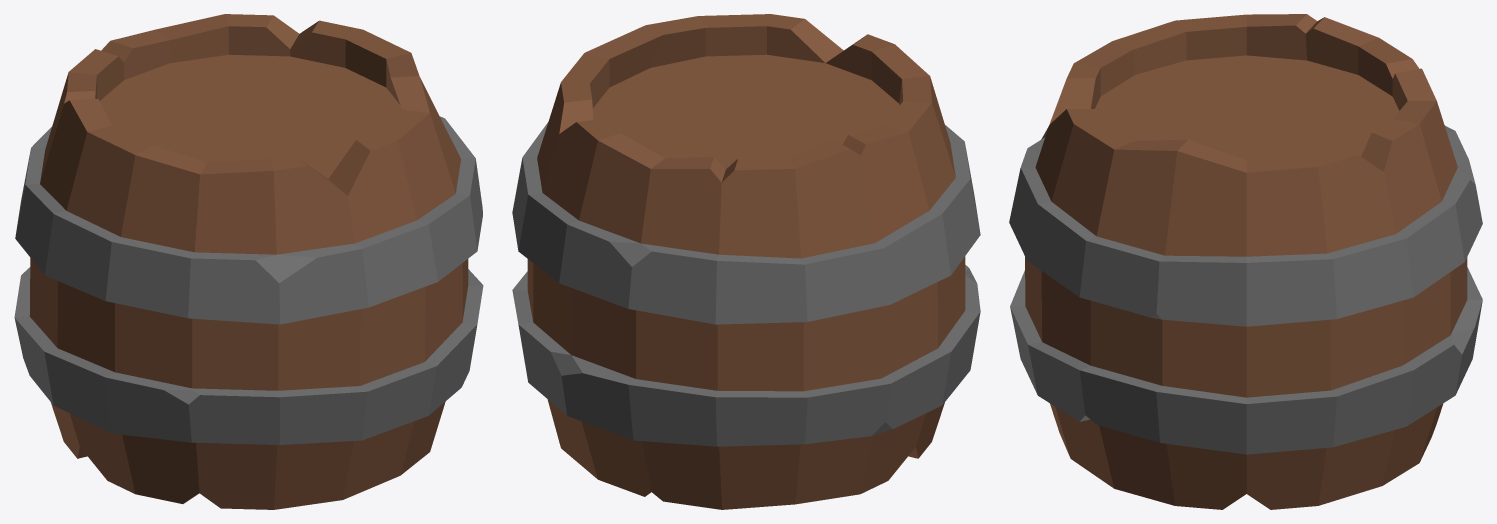
The model's file is rougherBarrel.fbx.
3 views of the same model, side by side, from view 1: azimuth 30°, elevation 25°; view 2: azimuth 150°, elevation 25°; view 3: azimuth 270°, elevation 25° (orthographic).
Parts seen in each view (by area): view 1: Cylinder; view 2: Cylinder; view 3: Cylinder.
Part boxes in pixels (box(x1,y1,x2,y2)): Cylinder: box(14, 14, 483, 509); Cylinder: box(512, 14, 980, 509); Cylinder: box(1009, 14, 1482, 509).
Size of the model in its own units: 85.62 by 69.51 by 85.76.
